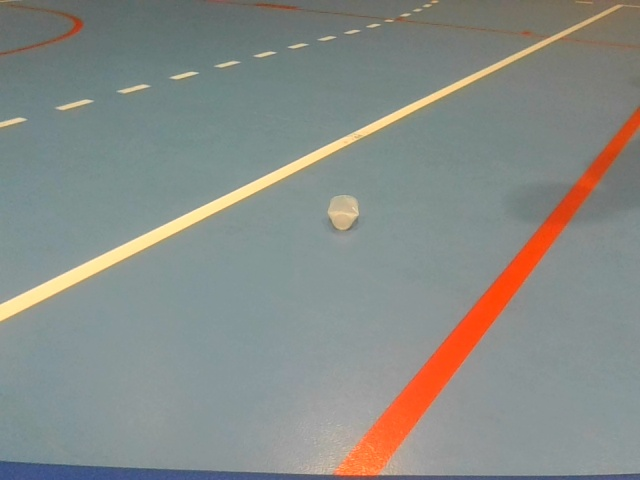plasticcup: (326, 195, 360, 228)
